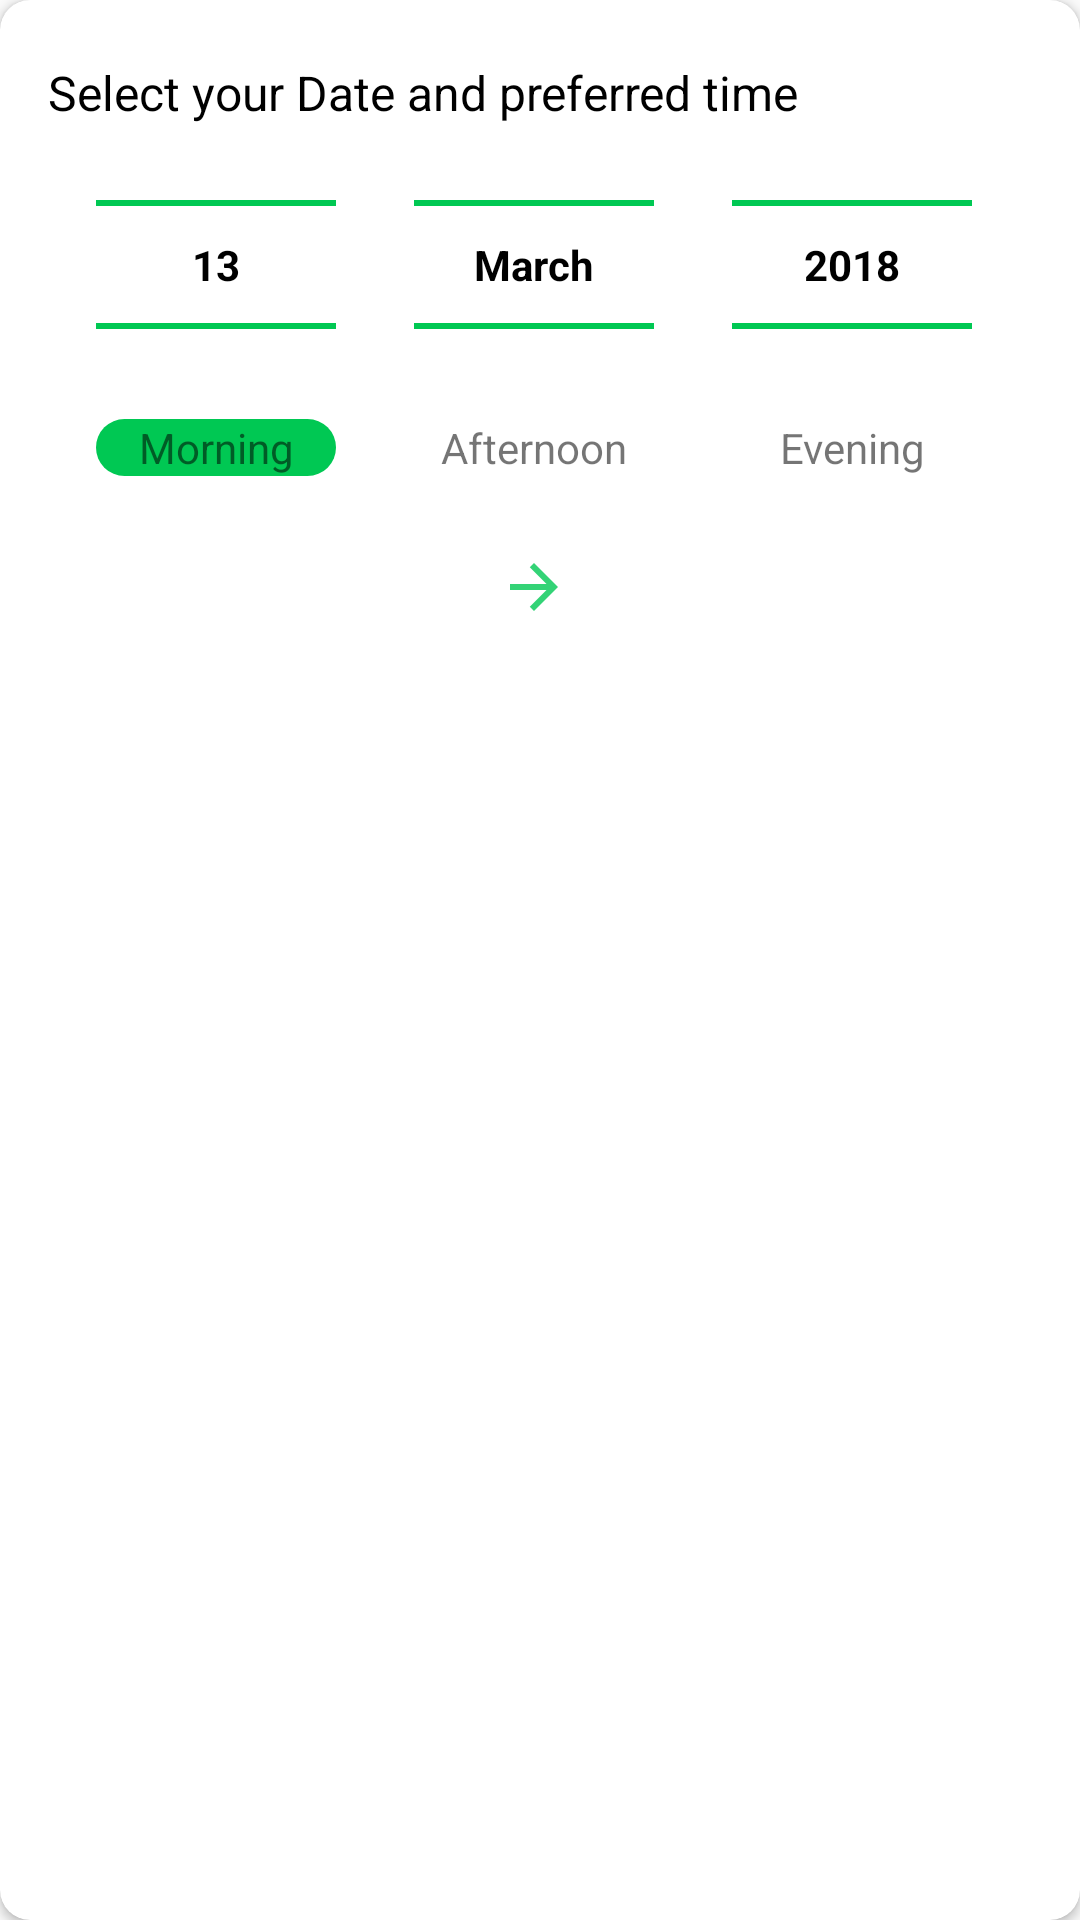

Icon click points for this 1080×1920 phone screenshot, format point (x, y):
forwardarrowgreen: point (534, 587)
